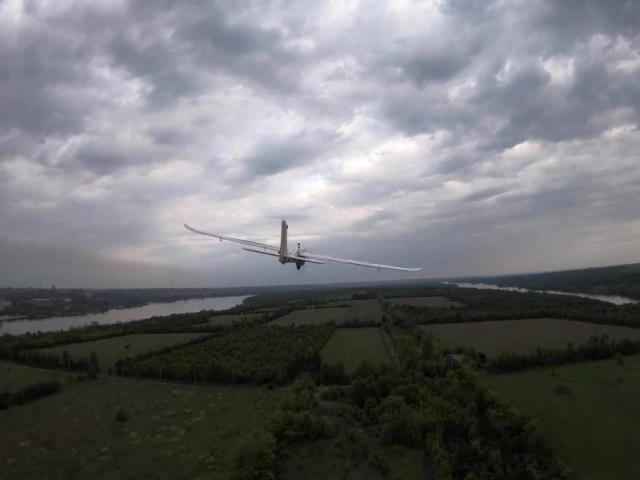hedef: (177, 212, 421, 294)
